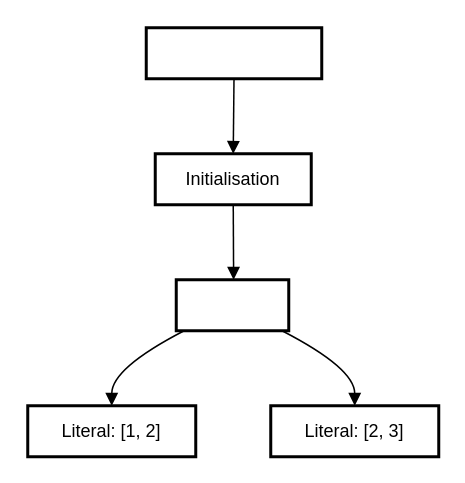
Some shapes in this 465 by 483 pixel diagram are drawn without their labels. Each missing label, with the centre of its shape:
Addition: pixel 232 305
Declaration: a: pixel 233 53
